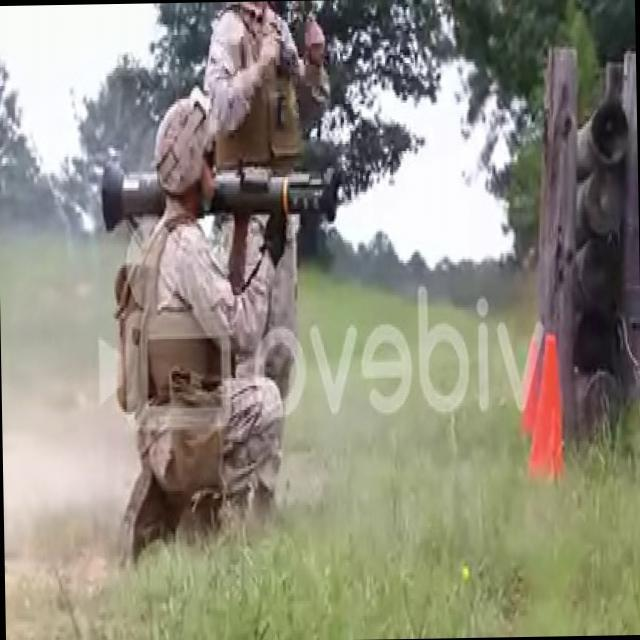rocket: (100, 166, 340, 232)
